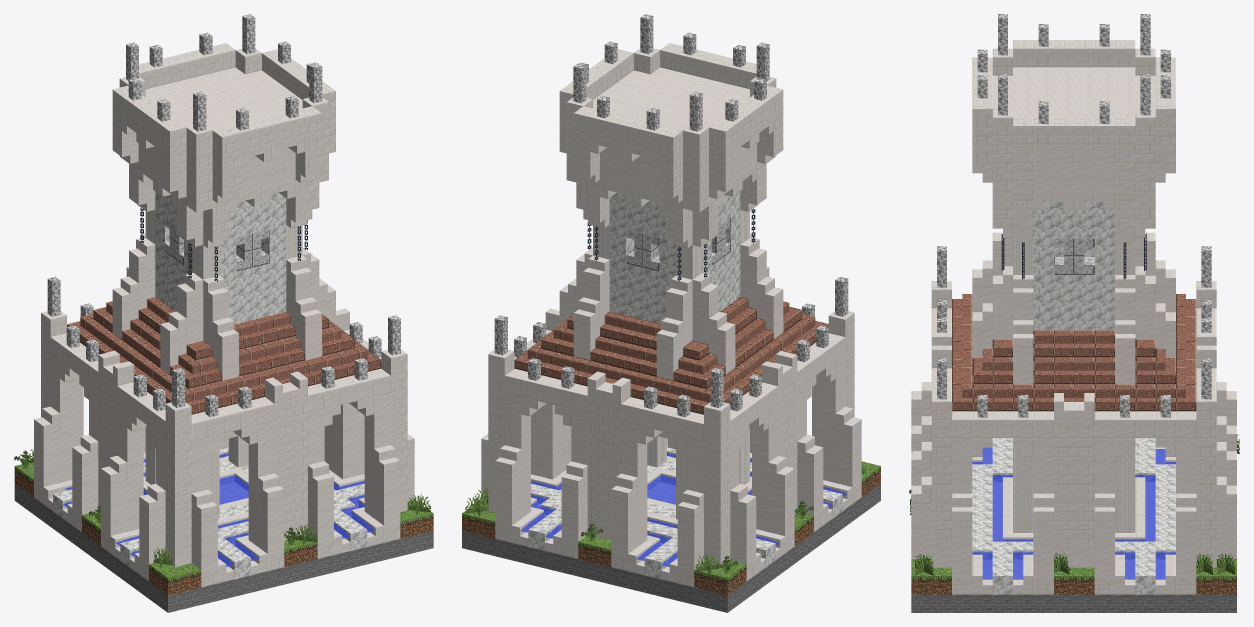
The picture shows the model from 3 angles, left to right: view 1: azimuth 30°, elevation 25°; view 2: azimuth 150°, elevation 25°; view 3: azimuth 270°, elevation 25°; orthographic projection. The views are drawn at different scales.
Visible parts, largest first — view 1: ZerpCraft_Founders_NFT_#050; view 2: ZerpCraft_Founders_NFT_#050; view 3: ZerpCraft_Founders_NFT_#050.
Boxes of the visible parts, bbox=[...] form: ZerpCraft_Founders_NFT_#050: bbox=[14, 14, 433, 612]; ZerpCraft_Founders_NFT_#050: bbox=[462, 14, 880, 612]; ZerpCraft_Founders_NFT_#050: bbox=[909, 14, 1239, 612].
Bounding box in the file's own units: 16.09 × 27 × 16.24.
Materials: 20 (20 with a texture image).
